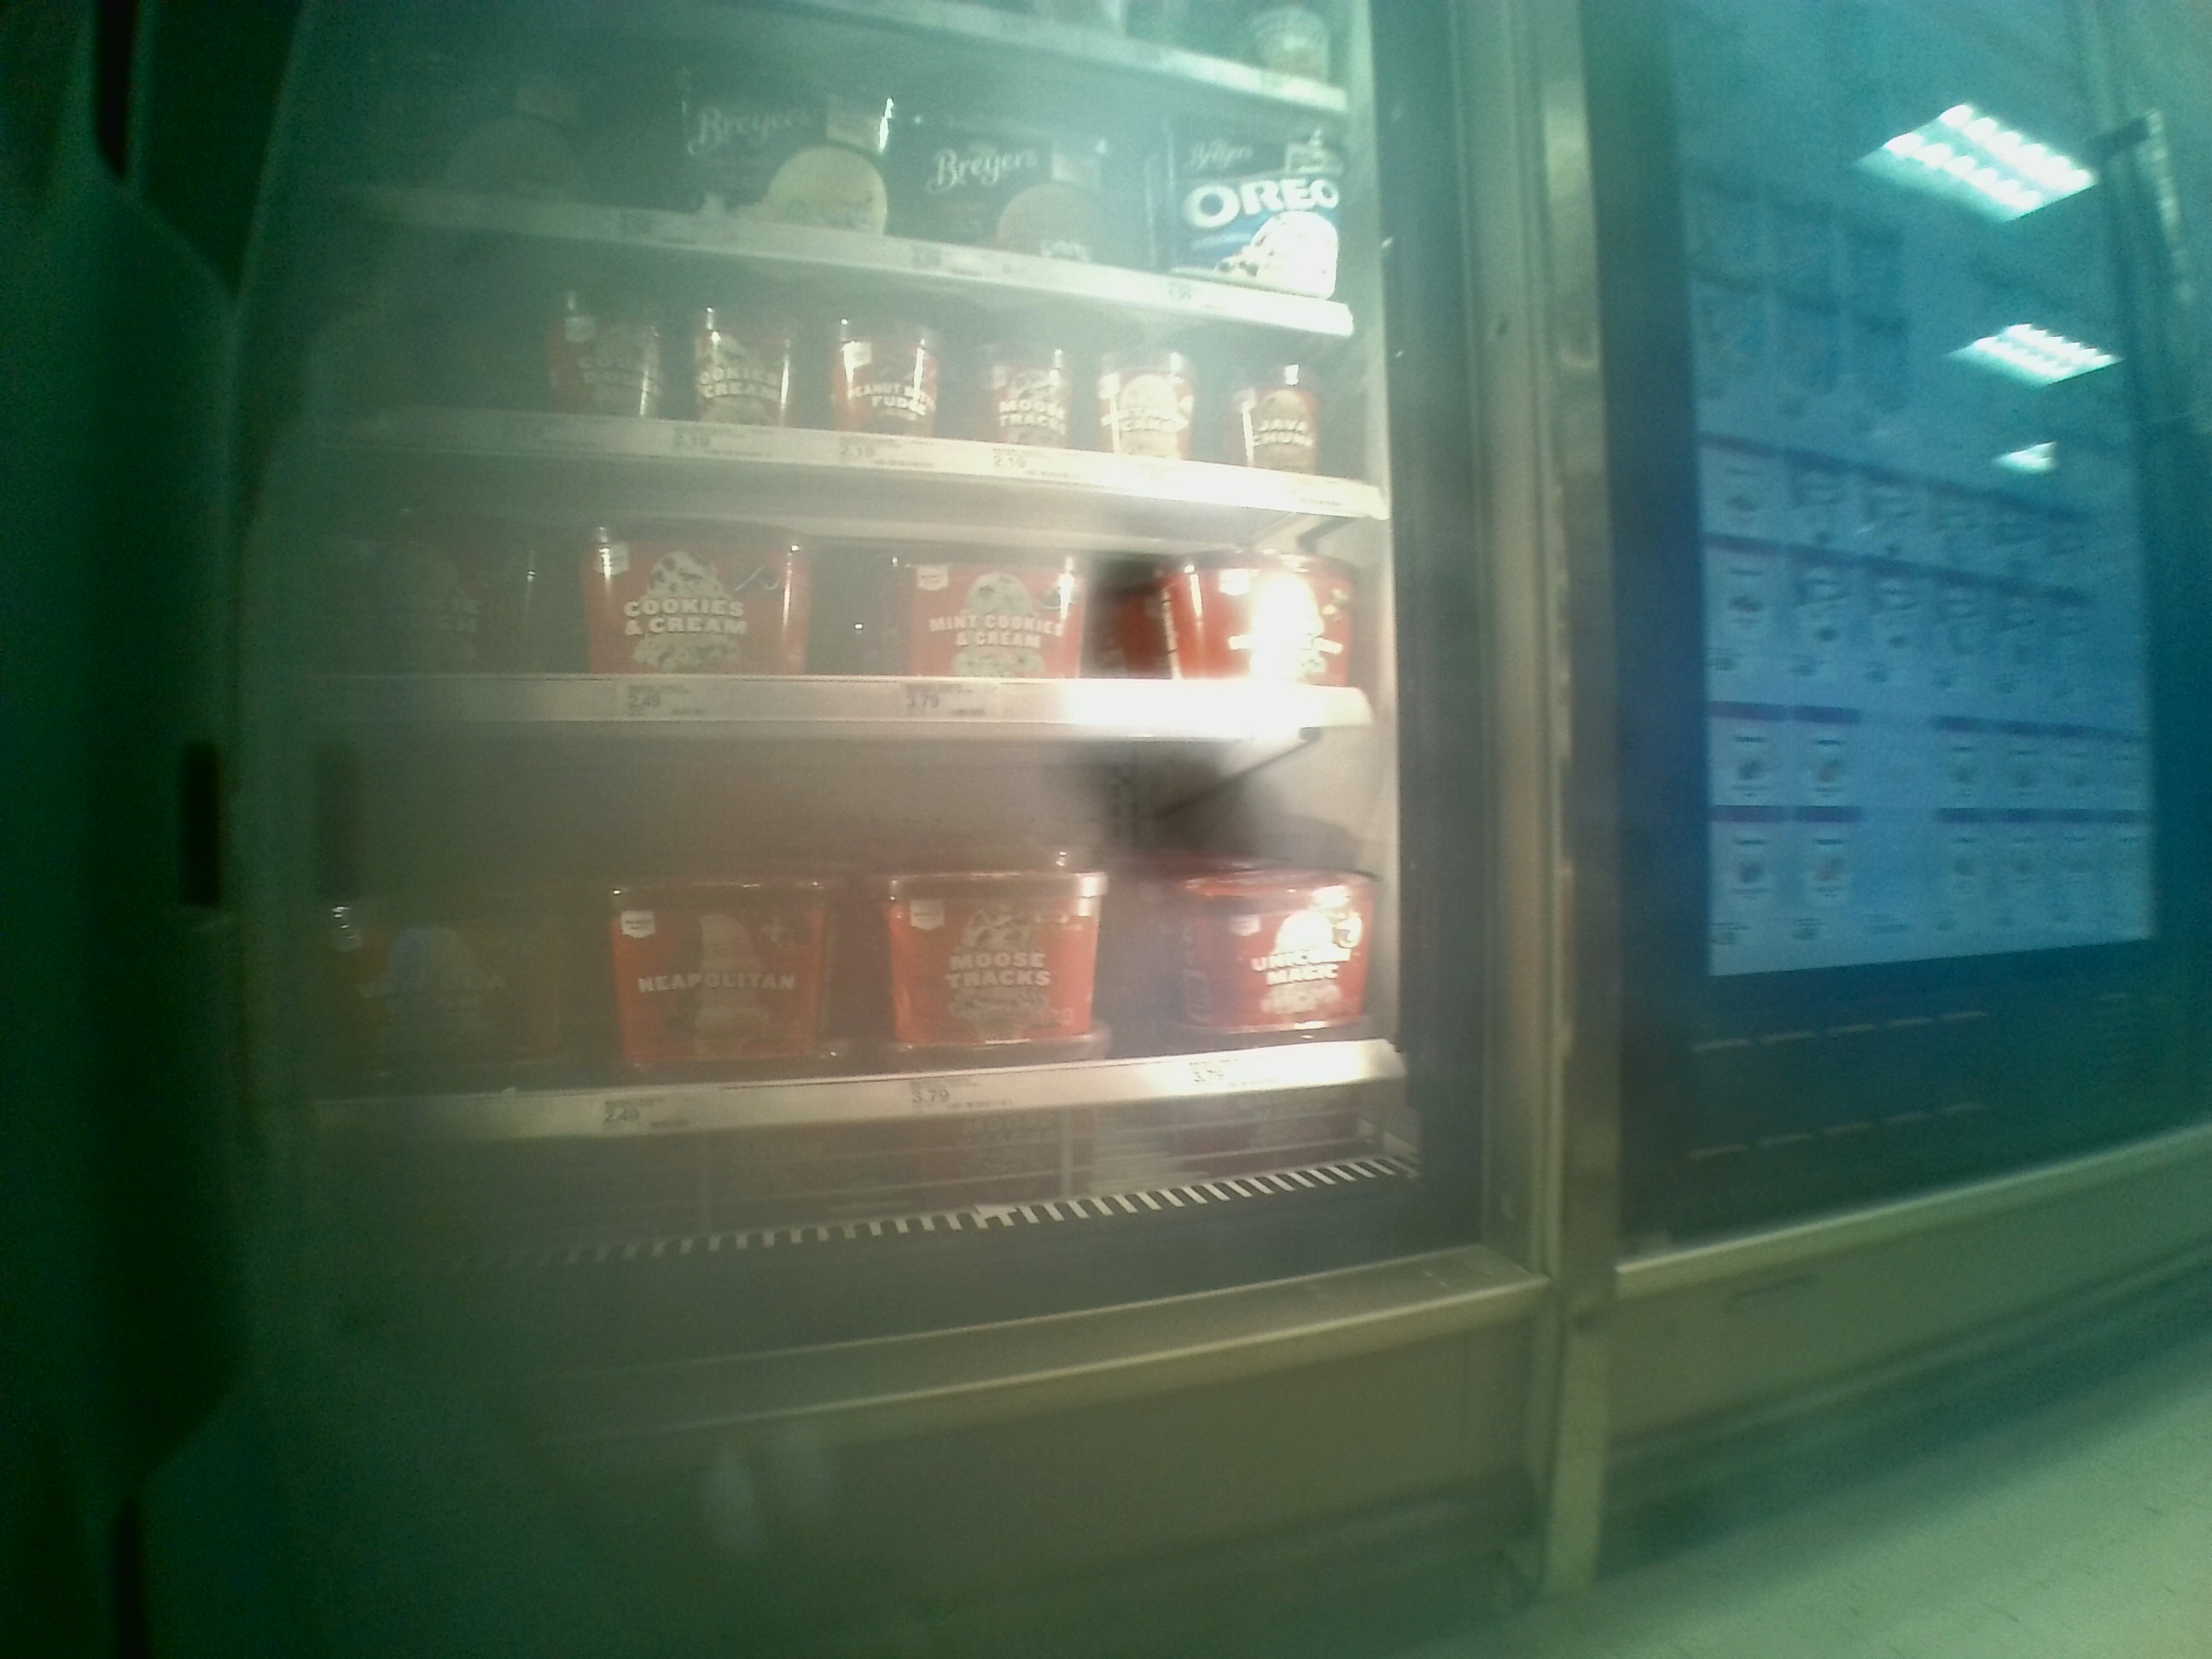shelf: (319, 727, 1411, 1218), (340, 216, 1383, 518), (331, 453, 1399, 721)
